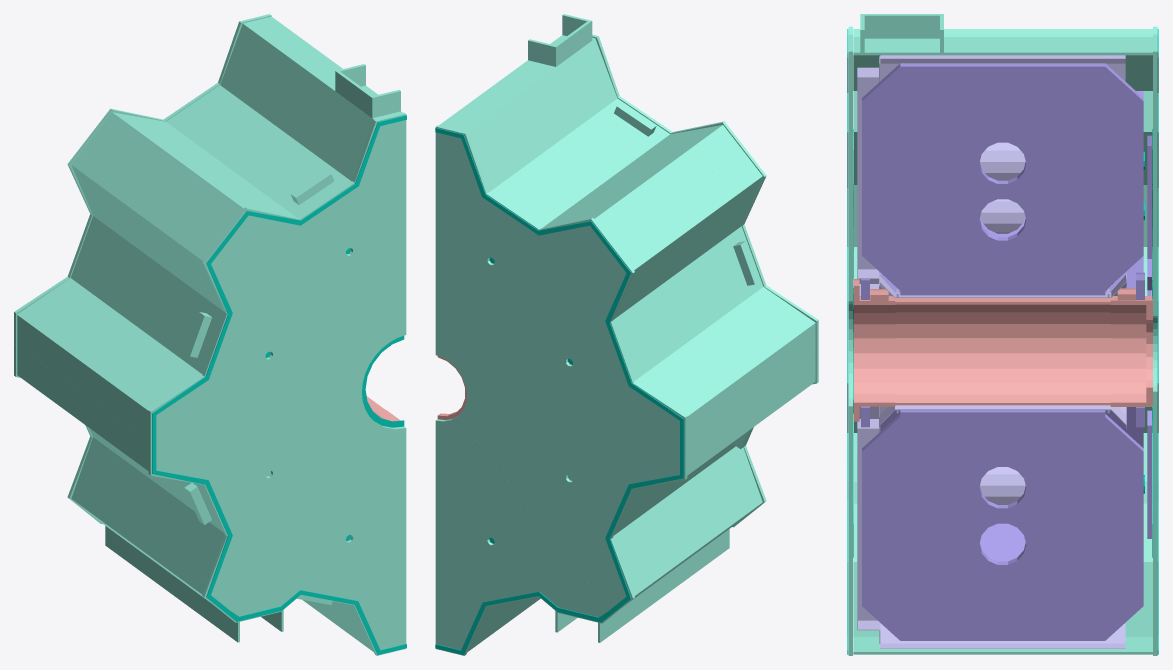
The model's file is End-Cap-Toroid-SideA-cut2.glb.
3 renders of one model, left to right at view 1: azimuth 30°, elevation 25°; view 2: azimuth 150°, elevation 25°; view 3: azimuth 270°, elevation 25°, orthographic. The views are drawn at different scales.
Visible parts, largest first — view 1: S__03F42908, S__041BAE98; view 2: S__03F42908, S__041BAE98; view 3: S__04191DC8, S__0419EAA8, S__03F42908, S__03F37E38, S__041BAE98.
Boxes of the visible parts, x1,y1,x2,y2 form: S__03F42908: (14,14,406,655); S__041BAE98: (152,115,406,654); S__03F42908: (435,14,818,655); S__041BAE98: (435,128,684,654); S__04191DC8: (861,63,1151,640); S__0419EAA8: (853,279,1152,421); S__03F42908: (848,14,1157,655); S__03F37E38: (857,55,1126,648); S__041BAE98: (847,29,1158,654).
Size of the model in its own units: 5.34 by 11.07 by 4.98.
